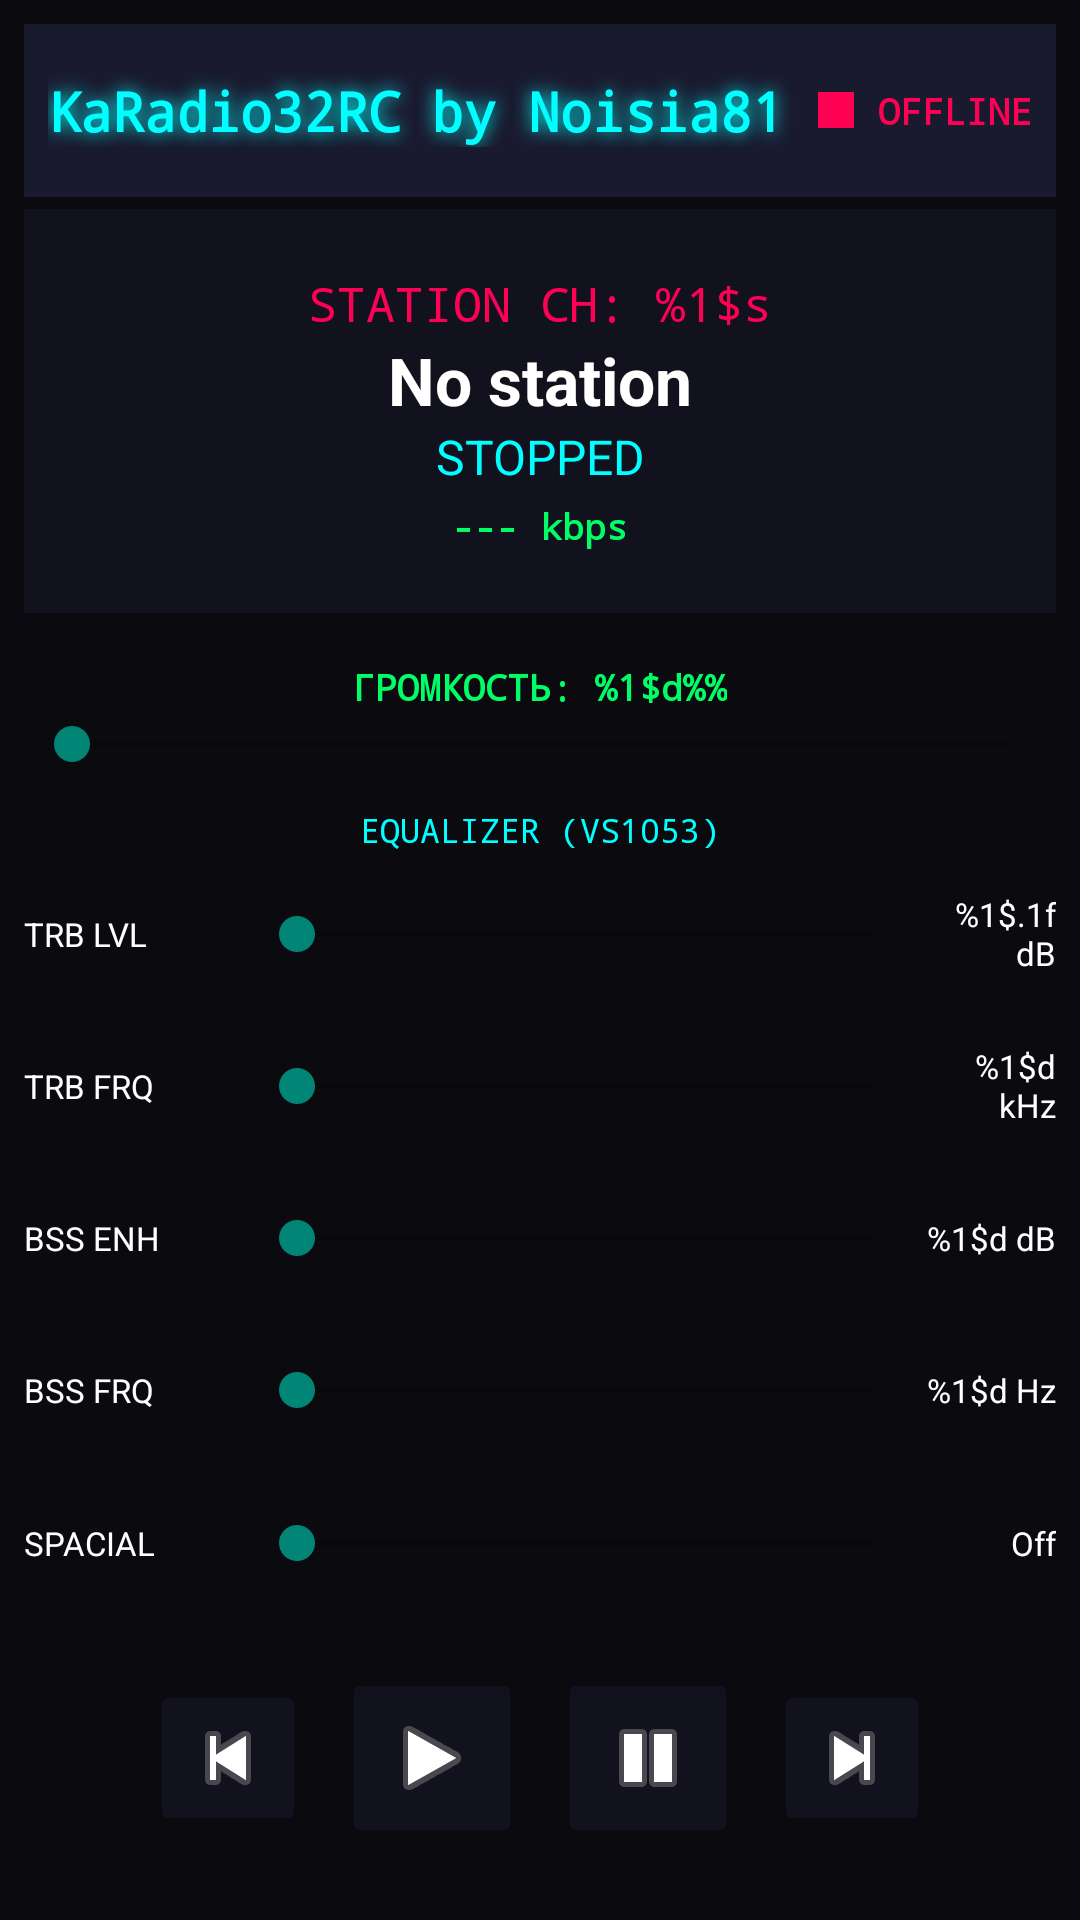

Icon bounding boxes for this 1080px×1920px phone screenshot, format (x1, y1, x2, y2):
Next: (829, 1731, 875, 1785)
Play: (403, 1726, 461, 1790)
Prev: (205, 1731, 251, 1785)
